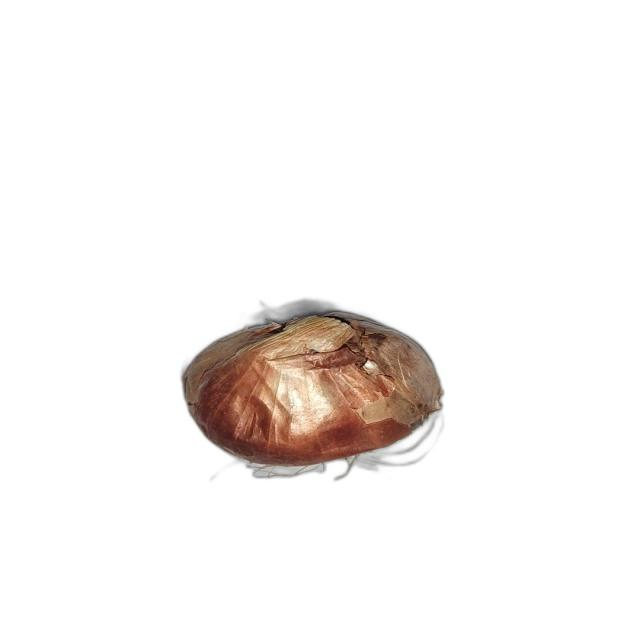onion: (179, 311, 446, 481)
